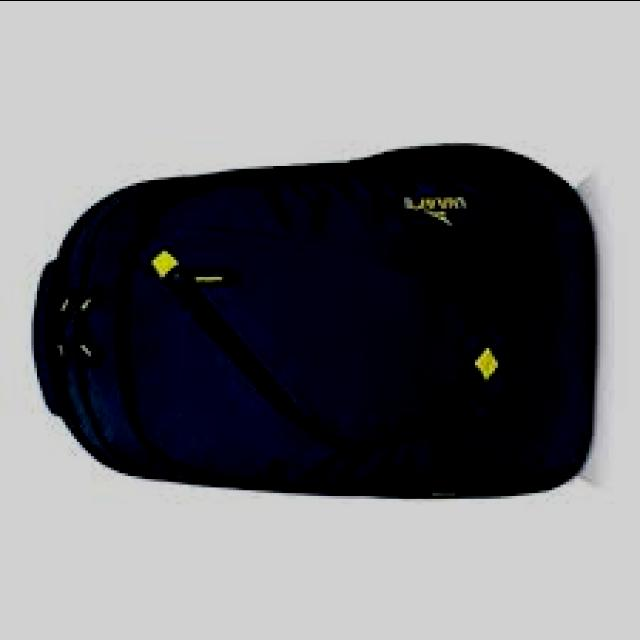backpack: (30, 144, 596, 502)
